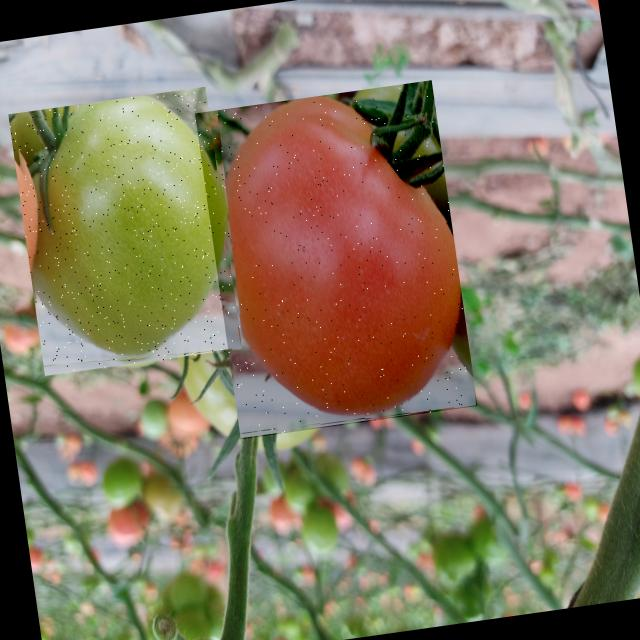Ripe Tomato: (195, 80, 478, 439)
Unripe Tomato: (9, 86, 242, 376)
